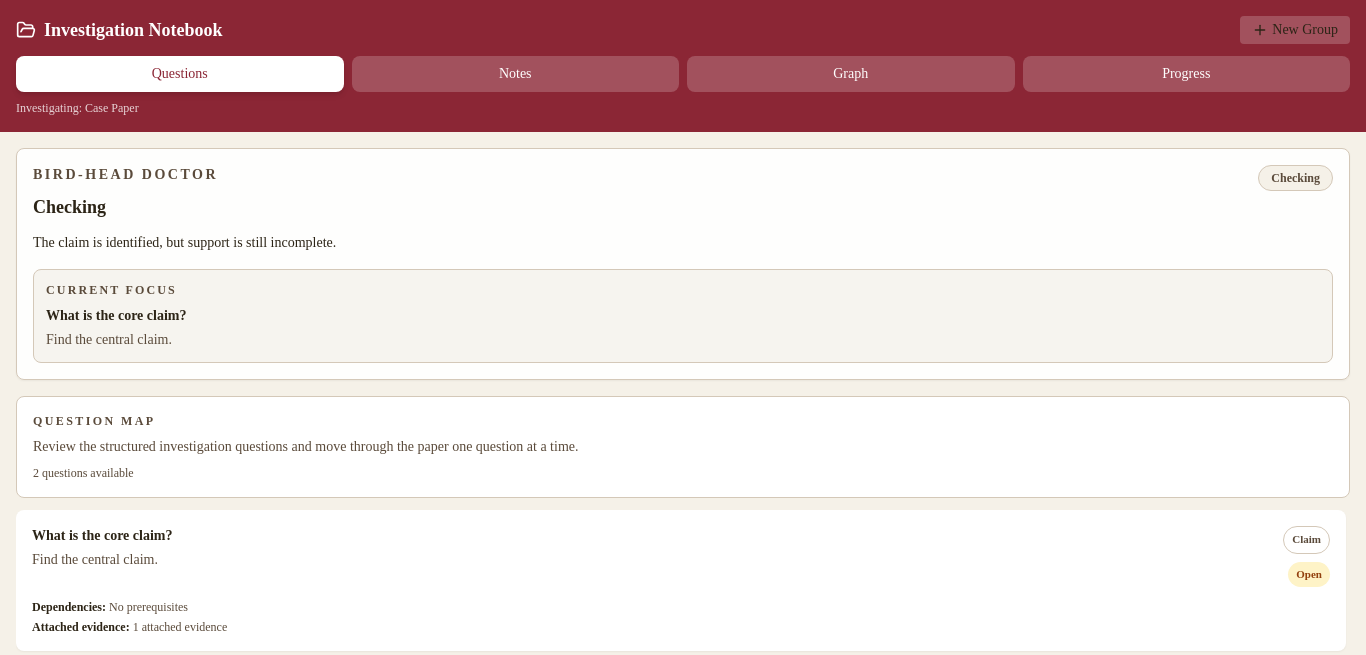
Test: Home shell copy › shows clickable questions and current-question evidence flow
Expected: the element "Bird-Head Doctor" is shown, [16, 148, 1350, 380]
Expected: the element "Bird-Head Doctor" shows "The claim is identified, but support is still incomplete.", [33, 235, 336, 250]
Click the tab "Notes".
click(515, 74)  # box [352, 56, 679, 92]
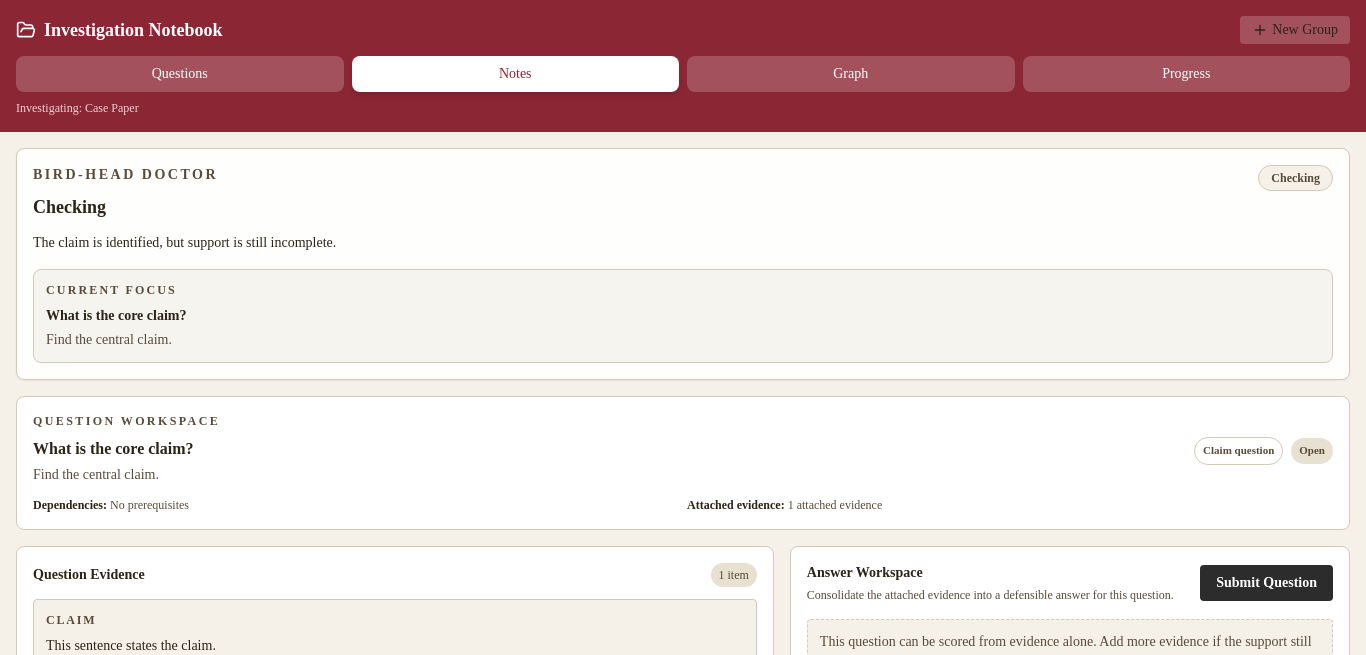
Expected: the heading "What is the core claim?" is shown, [33, 437, 194, 461]
Expected: the heading "Question Evidence" is shown, [33, 565, 145, 585]
Click the tab "Progress".
click(1186, 74)  # box [1022, 56, 1350, 92]
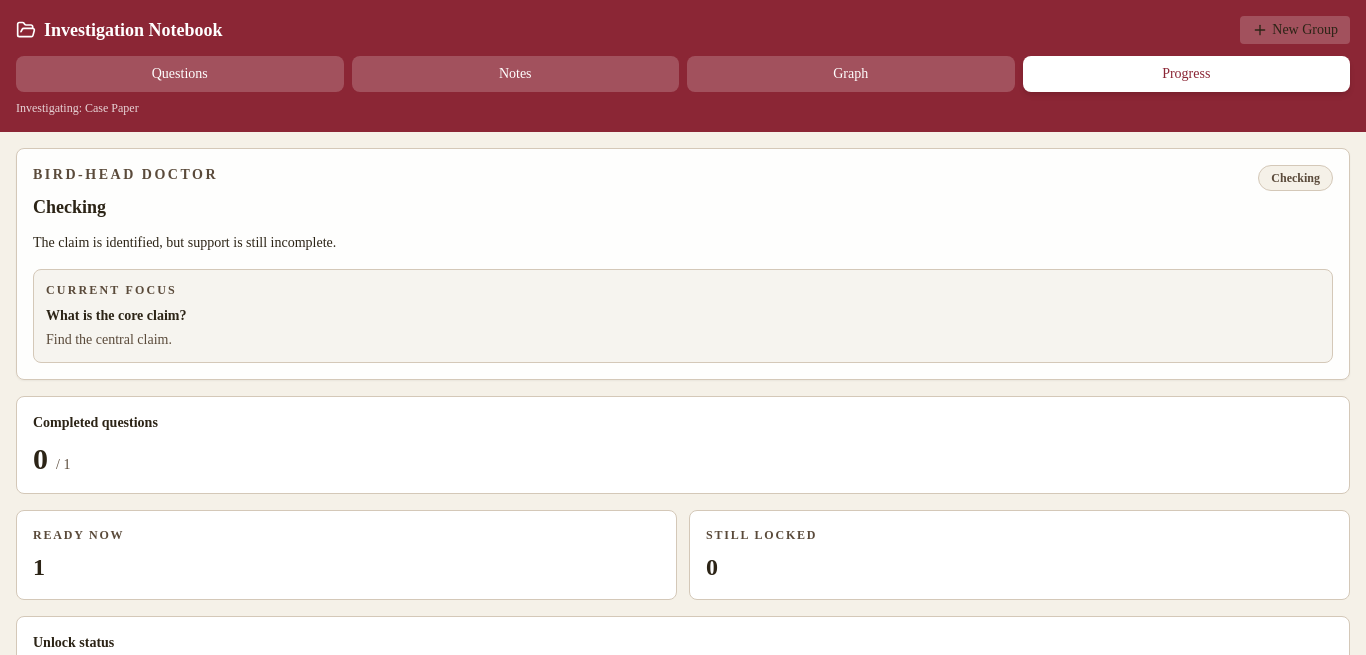
Expected: the heading "Completed questions" is shown, [33, 415, 158, 430]
